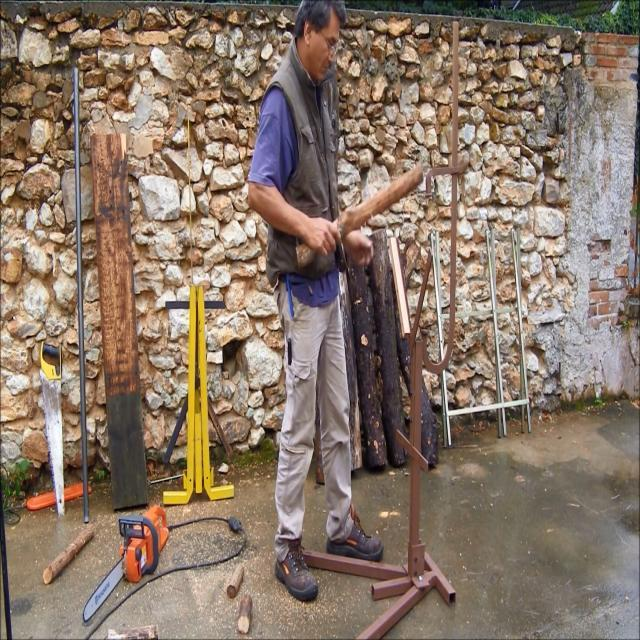Chainsaw: (70, 474, 182, 640)
